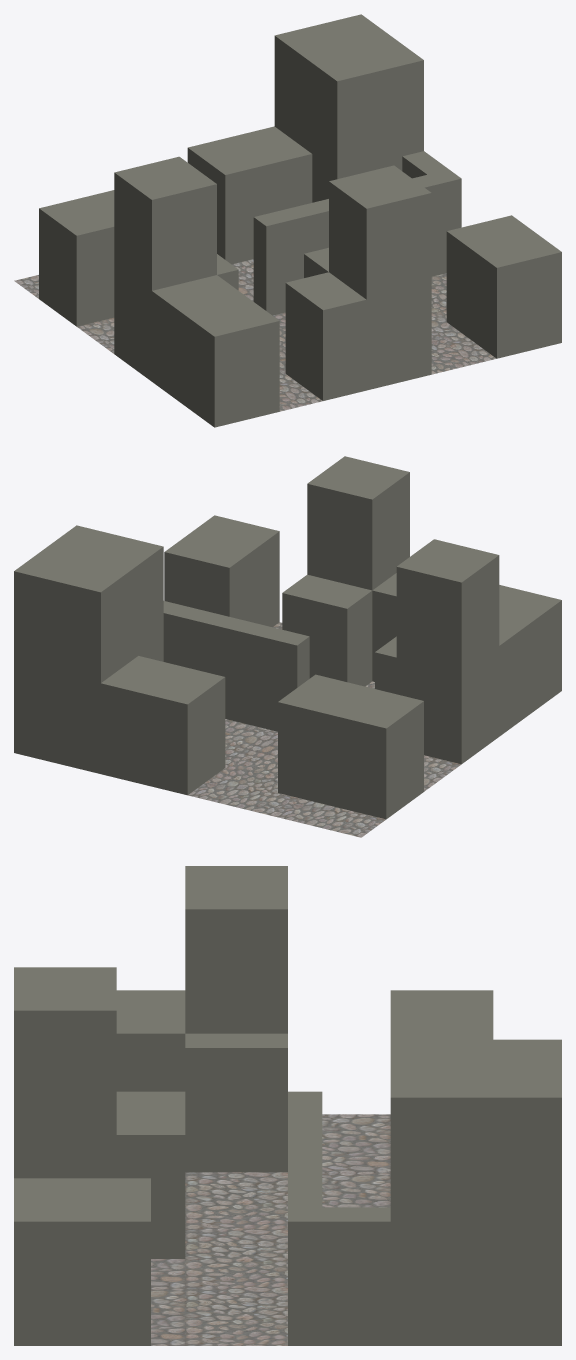
File: Tile1.fbx
3 renders of one model, top to bottom at view 1: azimuth 30°, elevation 25°; view 2: azimuth 150°, elevation 25°; view 3: azimuth 270°, elevation 25°, orthographic. The views are drawn at different scales.
Parts seen in each view (by area): view 1: Tile1; view 2: Tile1; view 3: Tile1.
Boxes of the visible parts, x1,y1,x2,y2 form: Tile1: (14, 14, 561, 427); Tile1: (14, 456, 561, 837); Tile1: (14, 866, 561, 1345).
Bounding box in the file's own units: 1600 × 800 × 1600.
